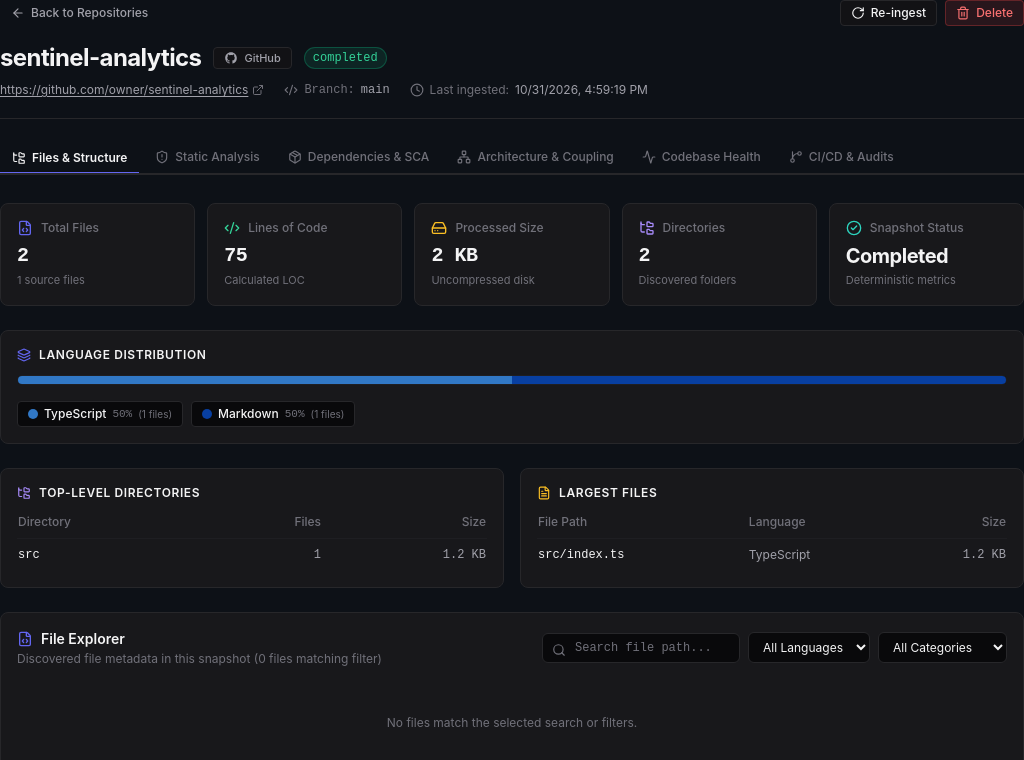
RepositoryDetailView Component › switches to Static Analysis, Dependencies, and CI/CD tabs
The width and height of the screenshot is (1024, 760).
Note: Static Analysis tab
Click the button "Static Analysis" at (208, 158), box left=143, top=143, right=272, bottom=173
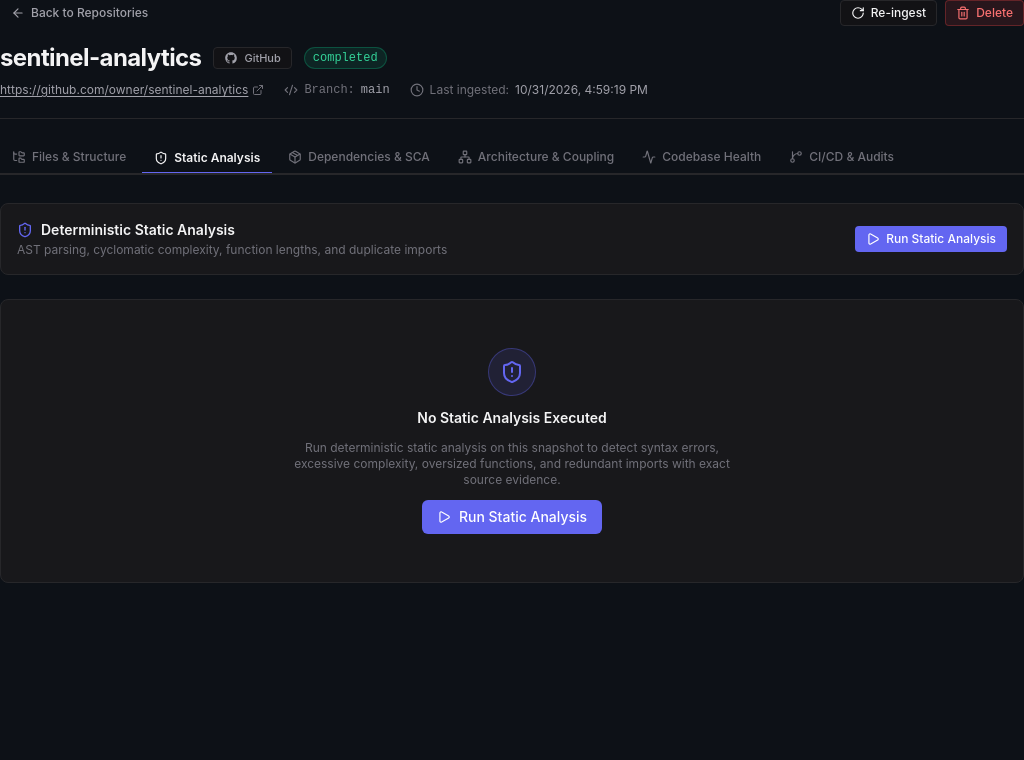
Expected: the heading "Deterministic Static Analysis" is shown, left=17, top=220, right=235, bottom=240
Note: Dependencies tab
Click the button "Dependencies & SCA" at (359, 158), box left=276, top=143, right=442, bottom=173
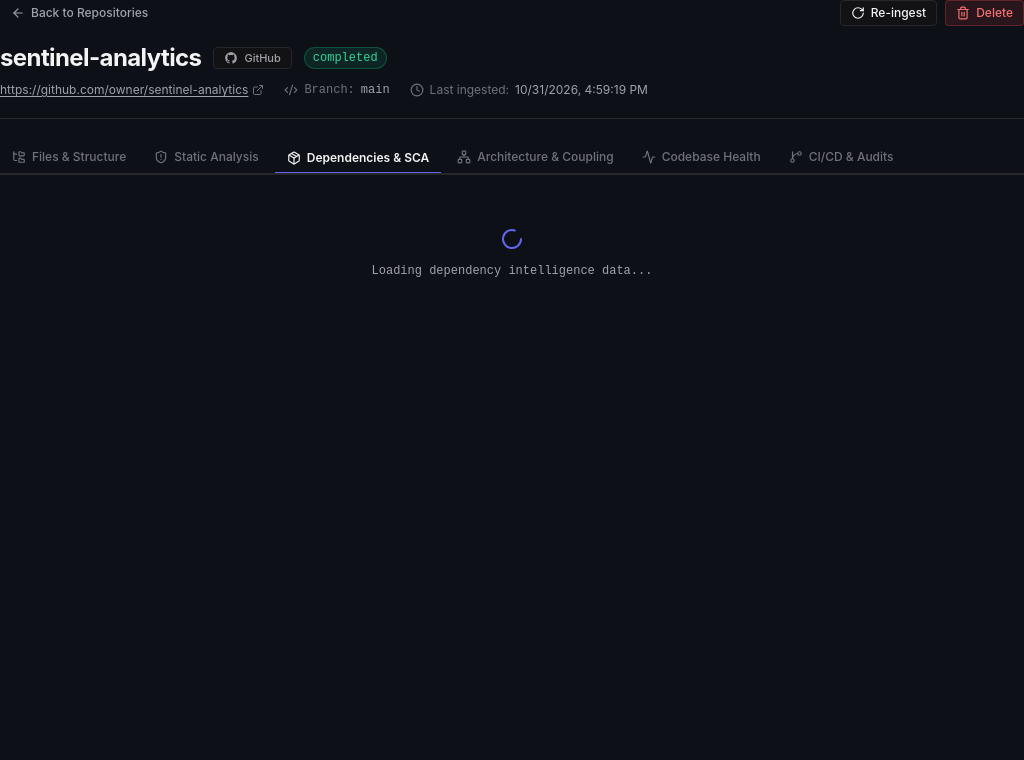
Expected: the text "Loading dependency intelligence data..." is shown, left=372, top=263, right=652, bottom=279
Note: CI/CD & Audits tab
Click the button "CI/CD & Audits" at (841, 158), box left=777, top=143, right=906, bottom=173
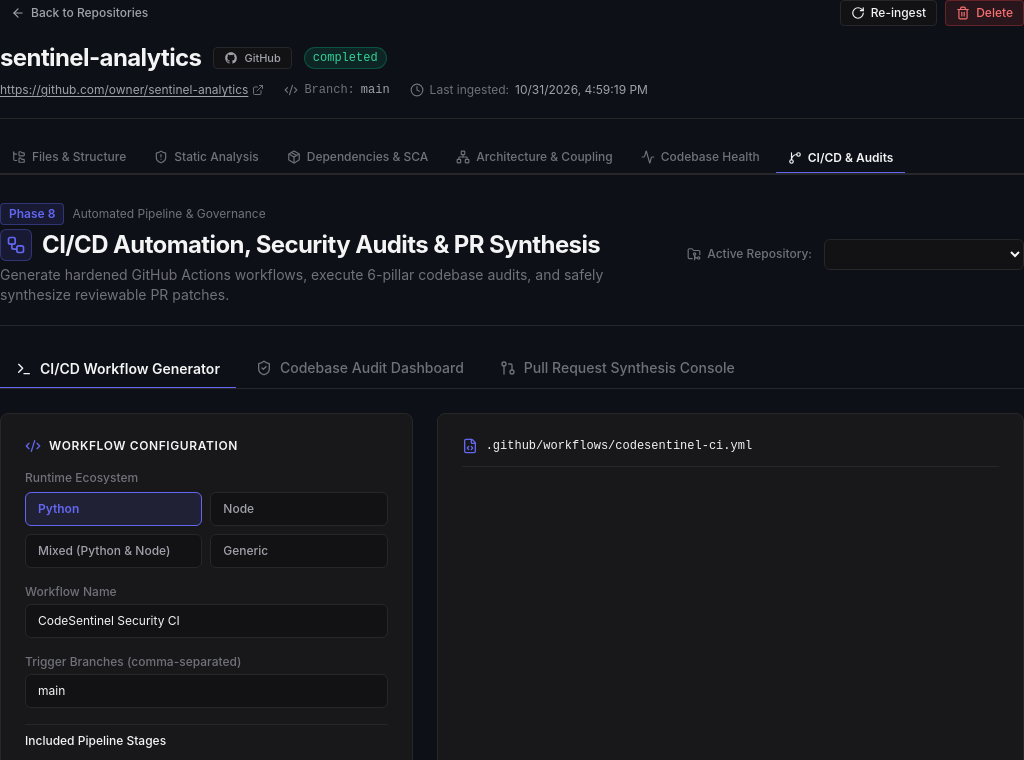
Expected: the heading "CI/CD Automation, Security Audits & PR Synthesis" is shown, left=0, top=229, right=671, bottom=261
